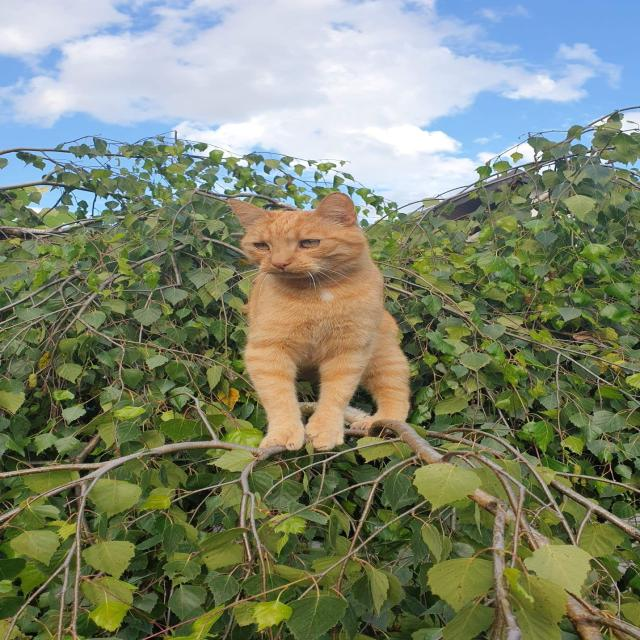sarman: (228, 191, 410, 450)
